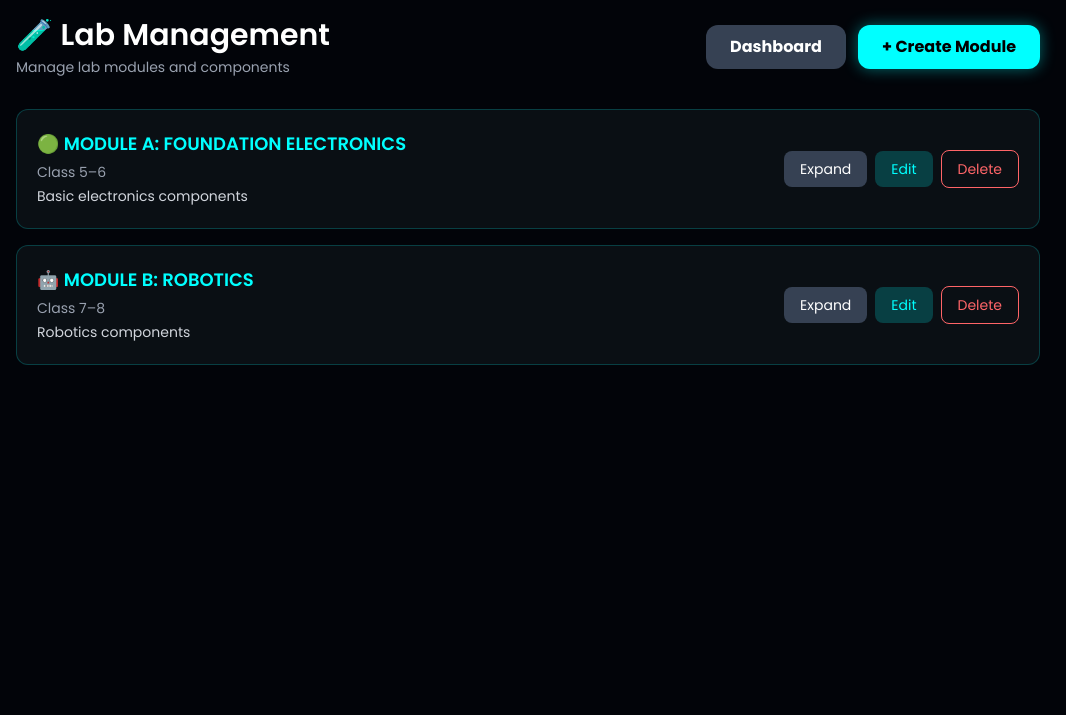
AdminLabManager › should open edit form with pre-filled data
Expected: the heading "🟢 MODULE A: FOUNDATION ELECTRONICS" is shown, 37,131 -> 406,156
Note: Click Edit button
Step 1. Click the 1st button "Edit" → {"x": 904, "y": 169}, box 875,151 -> 932,187
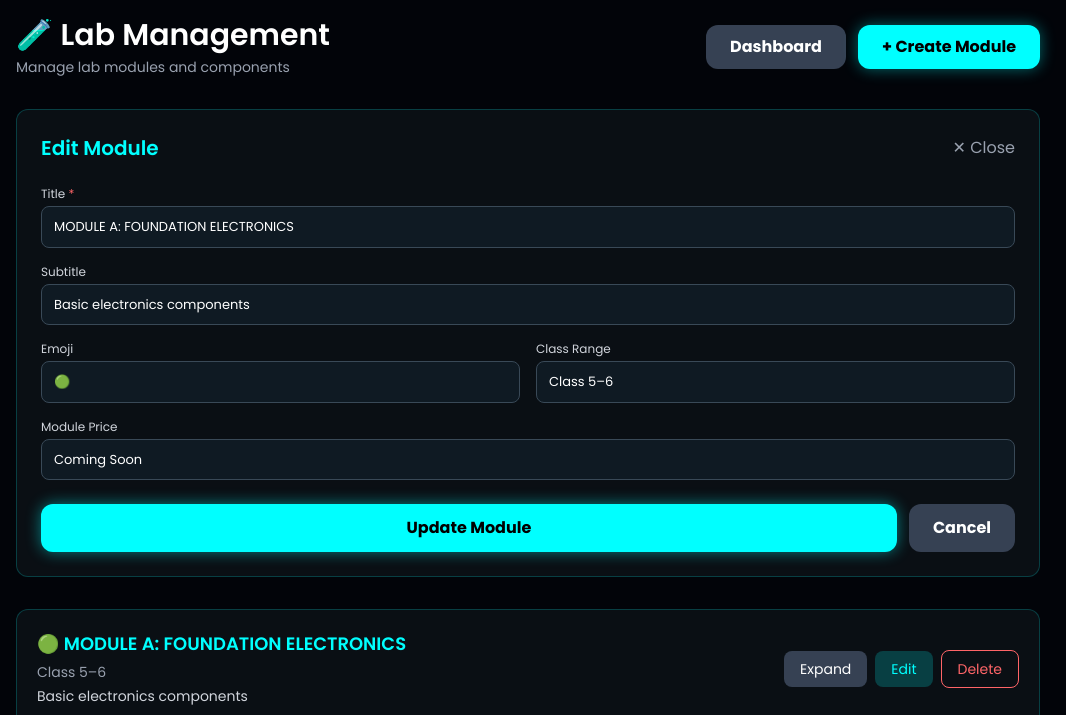
Expected: the heading "Edit Module" is shown, 41,134 -> 159,162
Expected: the 1st field showing "MODULE A: FOUNDATION ELECTRONICS" is shown, 41,206 -> 1015,248
